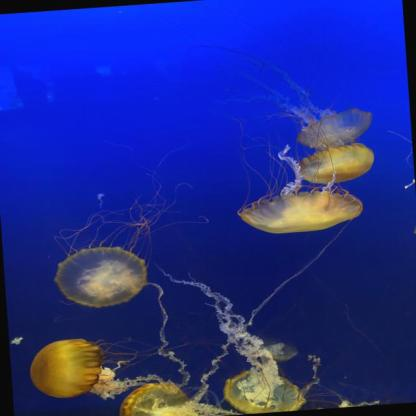jellyfish: (54, 244, 148, 309), (238, 189, 363, 236), (28, 338, 103, 398), (222, 366, 304, 415), (295, 142, 375, 186), (296, 109, 373, 149), (116, 382, 191, 416)
